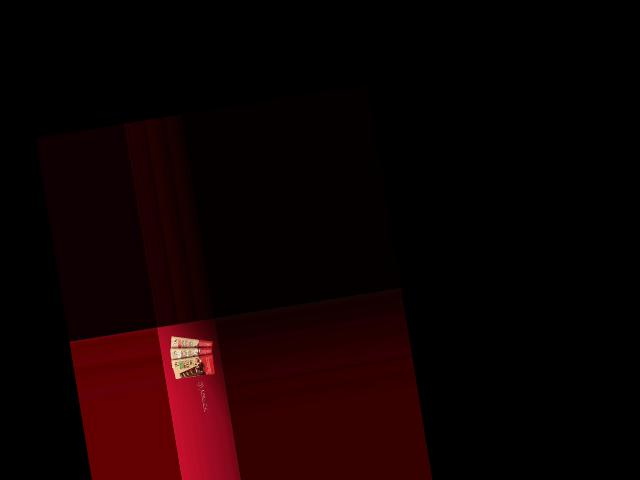chocolate: (166, 329, 215, 358)
